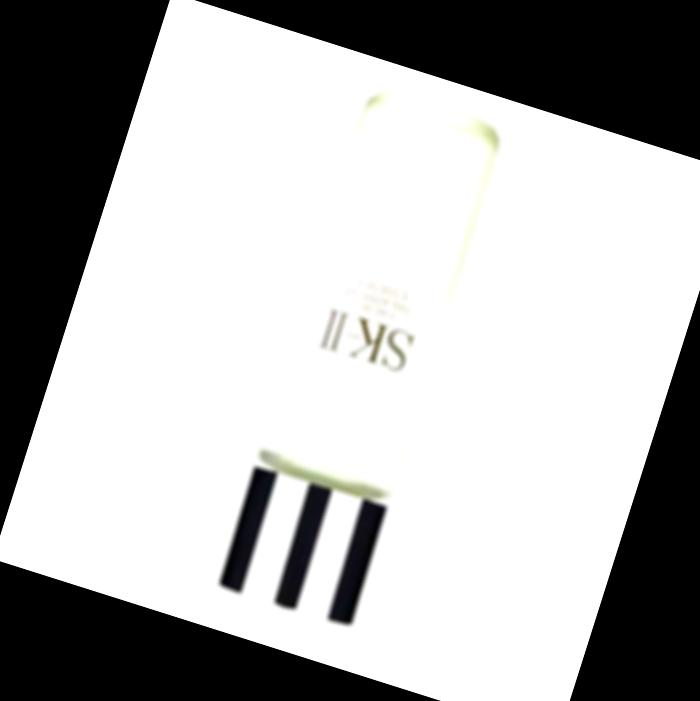cosmetic: (208, 80, 511, 626)
